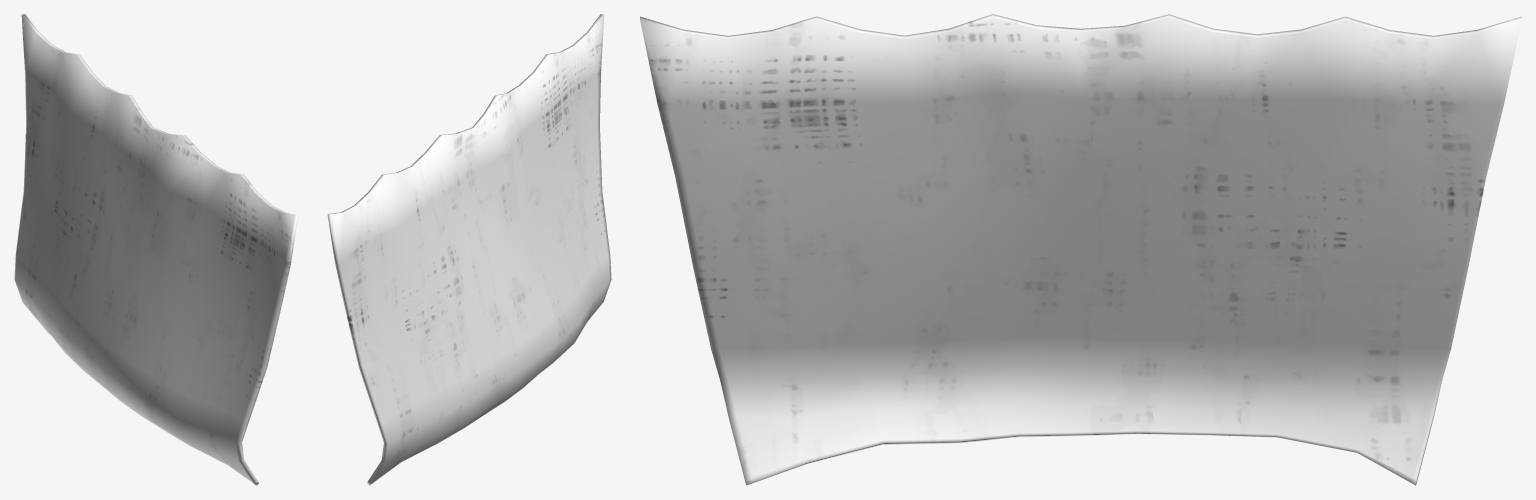
File: SM_PROP_boat_sail_open_town.fbx
3 renders of one model, left to right at view 1: azimuth 30°, elevation 25°; view 2: azimuth 150°, elevation 25°; view 3: azimuth 270°, elevation 25°, orthographic. The views are drawn at different scales.
Visible parts, largest first — view 1: SM_PROP_boat_sail_open_town_LOD0; view 2: SM_PROP_boat_sail_open_town_LOD0; view 3: SM_PROP_boat_sail_open_town_LOD0.
Part boxes in pixels (left/top/right/bottom): SM_PROP_boat_sail_open_town_LOD0: left=14, top=14, right=298, bottom=485; SM_PROP_boat_sail_open_town_LOD0: left=327, top=14, right=611, bottom=485; SM_PROP_boat_sail_open_town_LOD0: left=640, top=14, right=1521, bottom=485.
Size of what is drawn, in the model's own units: 49.49 by 238 by 402.
